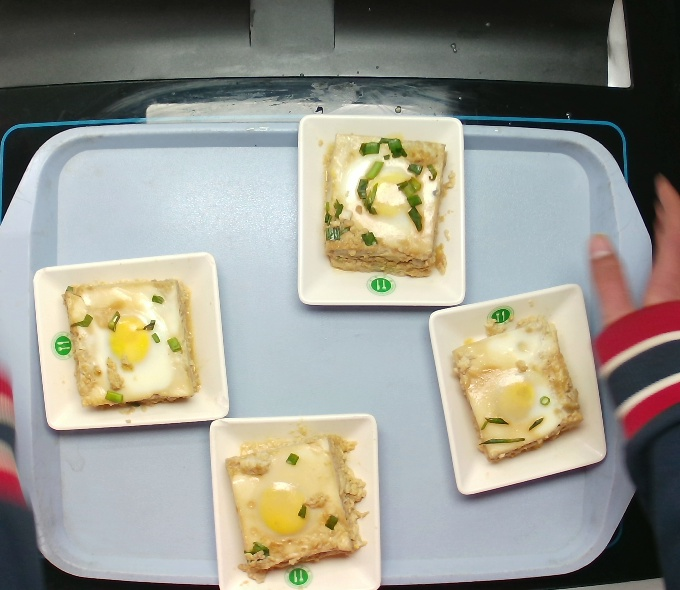wcq-RouMoZhengDan: (306, 117, 462, 293), (229, 414, 368, 589), (447, 304, 590, 472), (56, 278, 193, 411)
